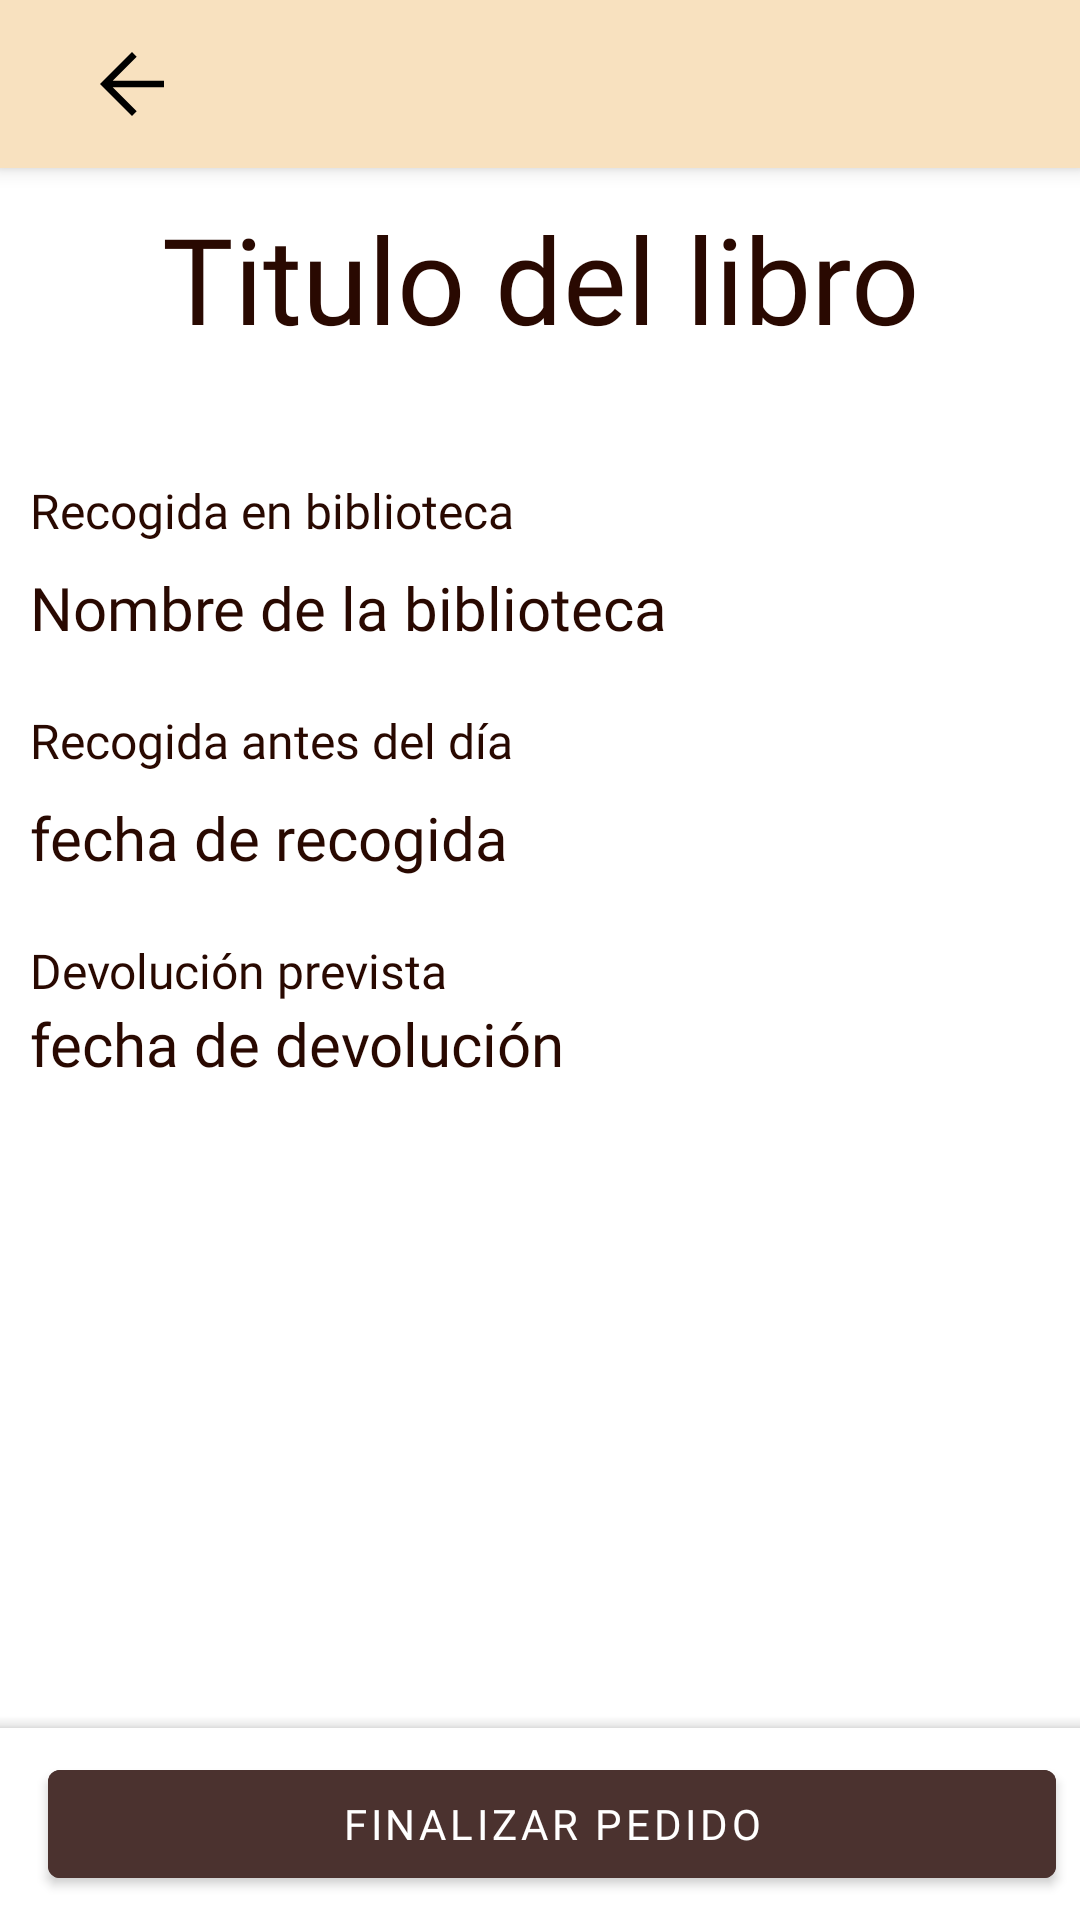

Point at icon controls on the screen. Image size 1080 × 1920, points as [x,y].
back: [132,84]
